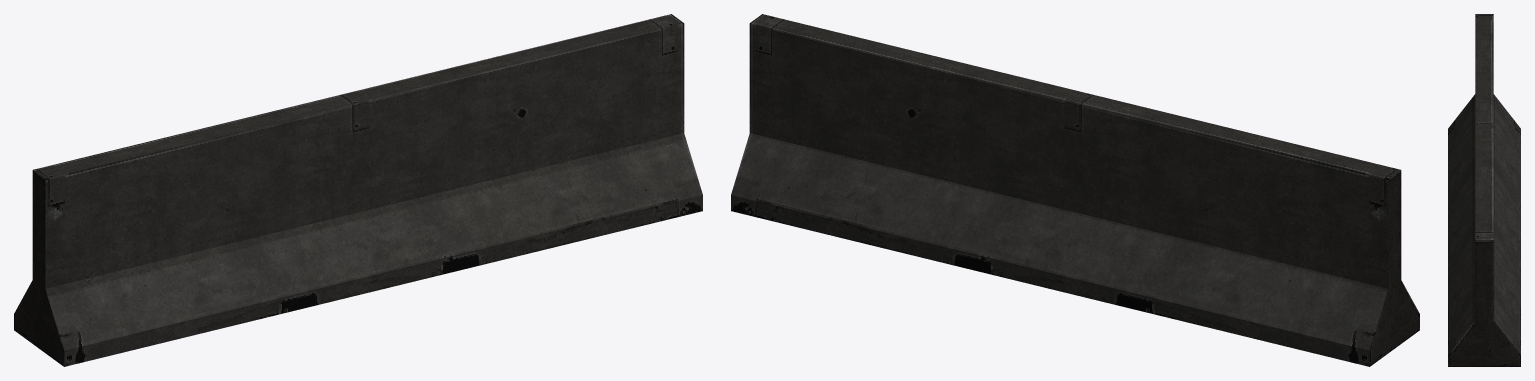
Rendered from barricade_b_1.glb.
The picture shows the model from 3 angles, left to right: view 1: azimuth 30°, elevation 25°; view 2: azimuth 150°, elevation 25°; view 3: azimuth 270°, elevation 25°; orthographic projection. The views are drawn at different scales.
Visible parts, largest first — view 1: barricade_b_1; view 2: barricade_b_1; view 3: barricade_b_1.
Boxes of the visible parts, <box> form: barricade_b_1: <box>14,14,702,366</box>; barricade_b_1: <box>731,14,1419,366</box>; barricade_b_1: <box>1448,14,1520,366</box>.
Bounding box in the file's own units: 2.94 × 0.766 × 0.4.
1 material, 1 textured.
